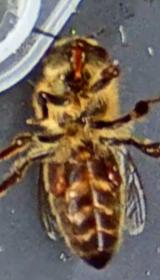varroa_mite: (100, 150, 126, 190), (46, 162, 71, 196)
